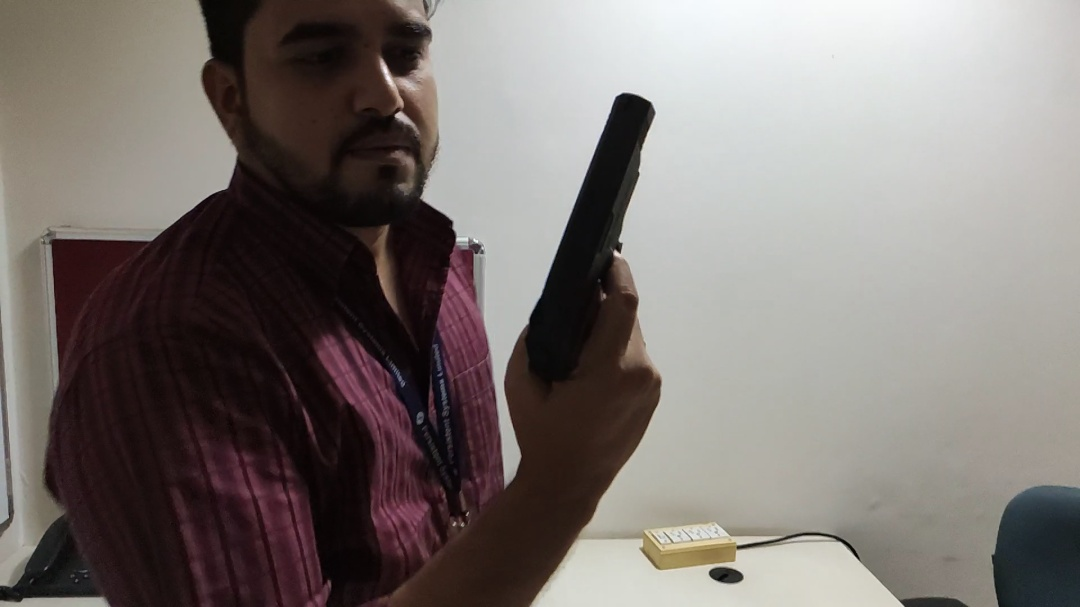gun: (511, 76, 708, 425)
